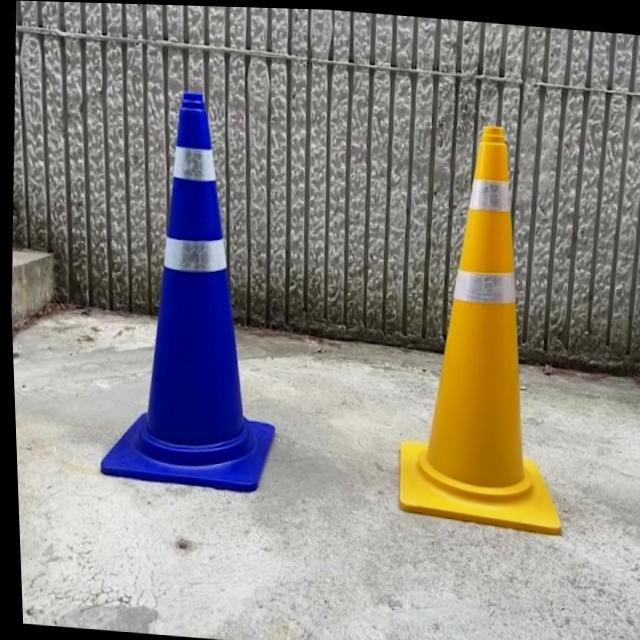b_rub: (97, 91, 273, 491)
y_rub: (396, 122, 557, 531)
